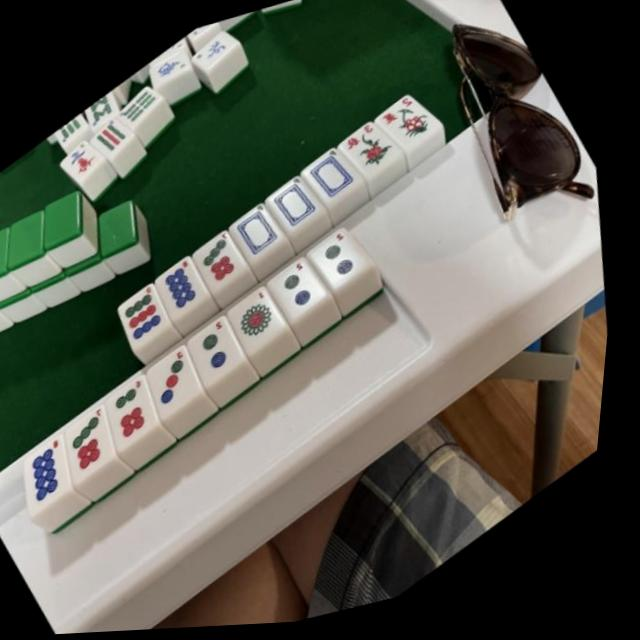bs2: (376, 85, 448, 160)
bs3: (337, 111, 411, 187)
hdw: (266, 165, 333, 236), (229, 194, 296, 264), (302, 139, 368, 210)
sd1: (226, 276, 299, 352)
sd2: (188, 307, 261, 384), (311, 222, 378, 293), (274, 253, 337, 319)
sd3: (142, 335, 223, 420)
sd6: (105, 366, 181, 445)
sd7: (61, 394, 142, 475), (189, 220, 262, 296)
sd8: (21, 425, 99, 503), (155, 248, 221, 319)
sd9: (114, 275, 185, 345)
